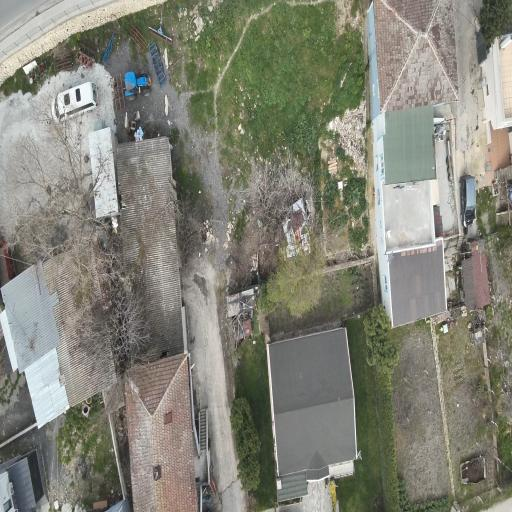car: (51, 82, 98, 120), (459, 176, 476, 227), (124, 71, 151, 100)
